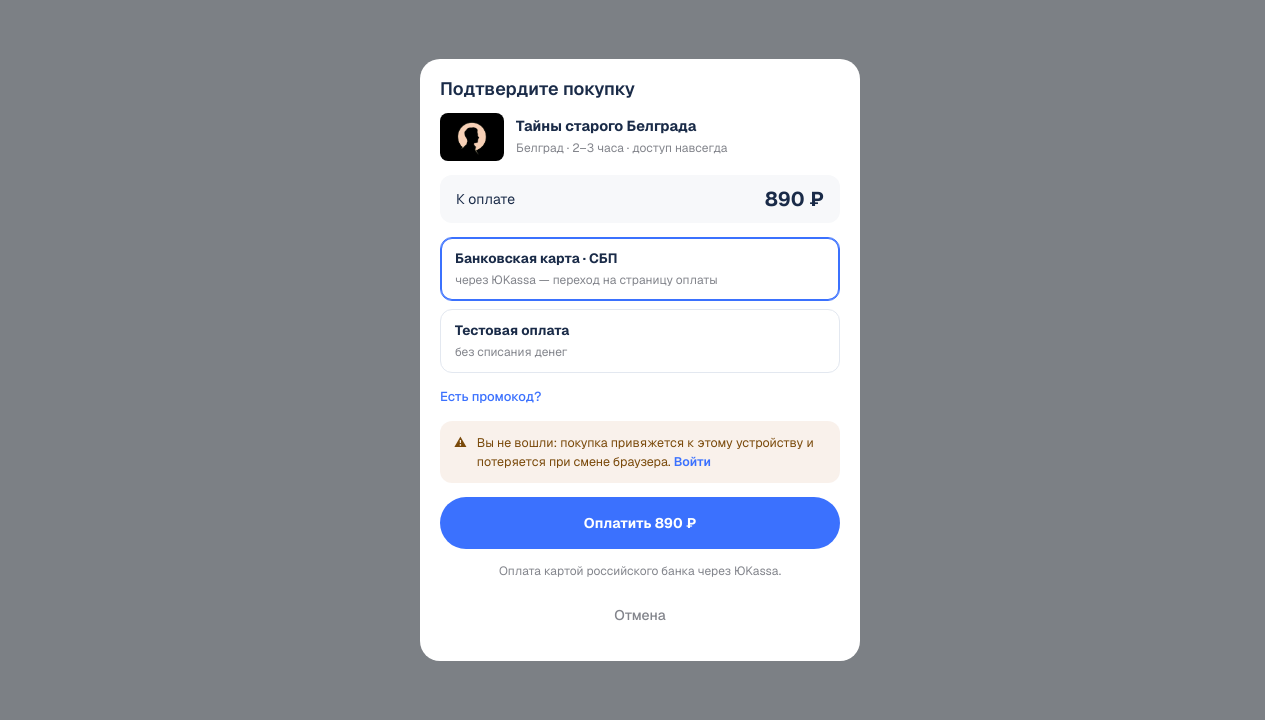
PurchaseSheet — ЮKassa redirect › browser Back after a canceled payment unlocks the sheet and says so
What coordinates should you click on to do the following:
click the button "Оплатить 890 ₽"
I would click on:
 (640, 523)
Its box is [440, 497, 840, 549].
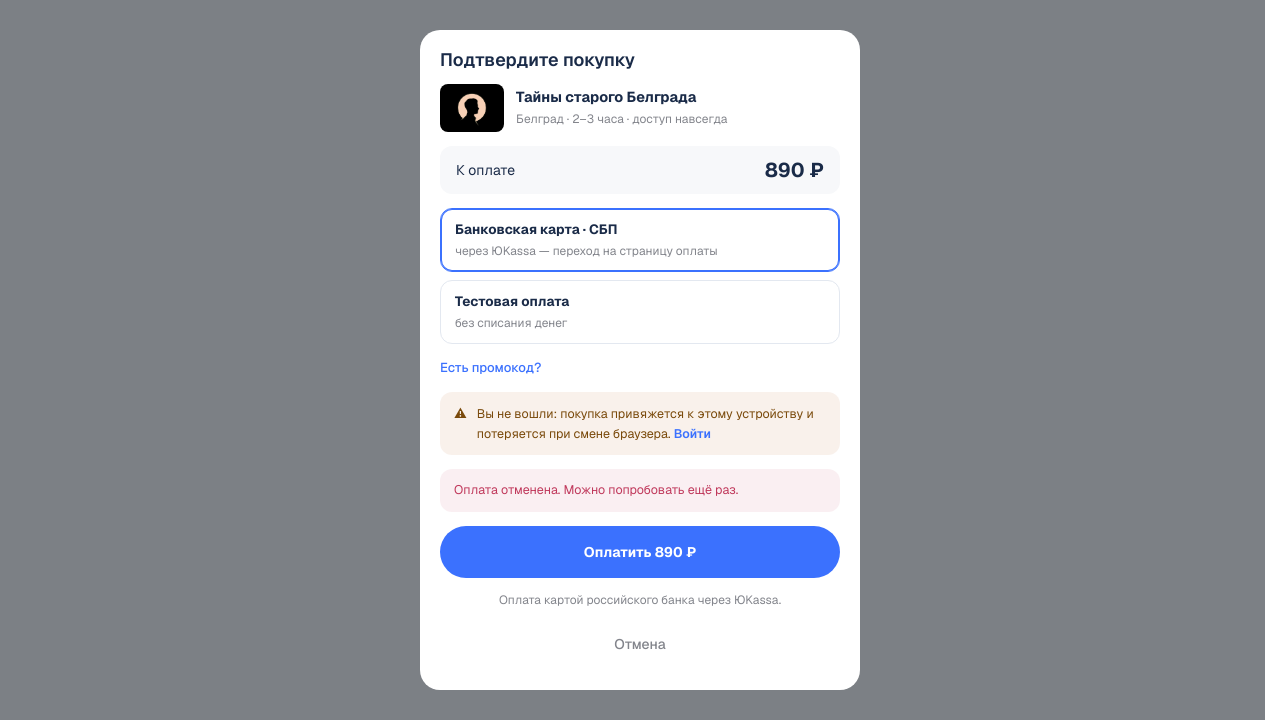
Expected: the button "Оплатить 890 ₽" is shown, [440, 526, 840, 578]
Expected: the text "Оплата отменена. Можно попробовать ещё раз." is shown, [440, 469, 840, 512]
